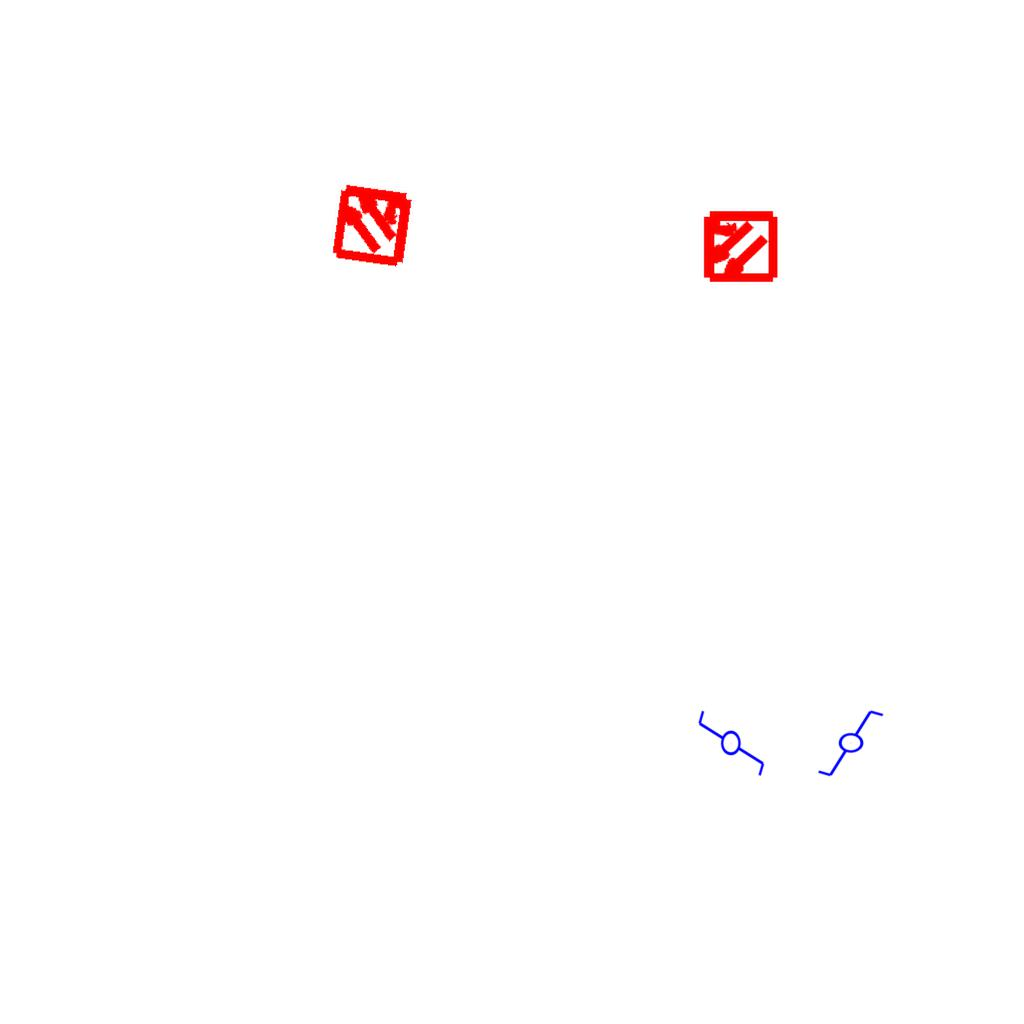OT_Multisensormelder_(Kombination_RMO_WMD): (308, 159, 437, 288), (682, 190, 795, 303)
Wechselschalter: (816, 708, 894, 780), (696, 700, 768, 778)
